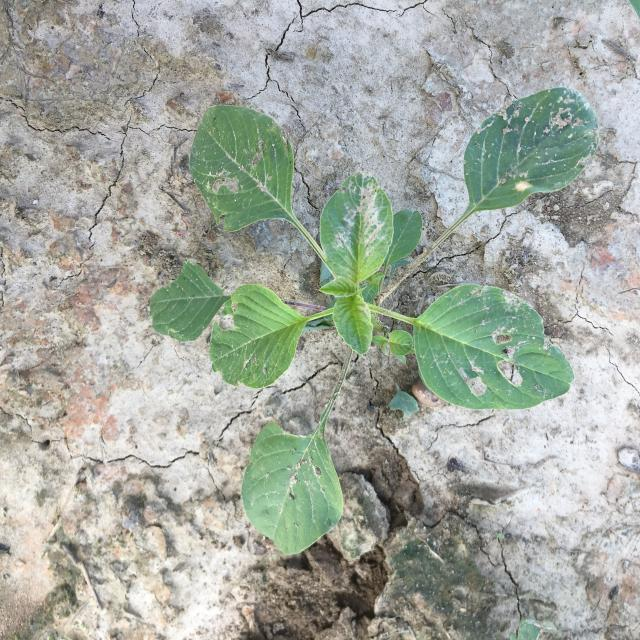PalmerAmaranth: (149, 87, 601, 556)
